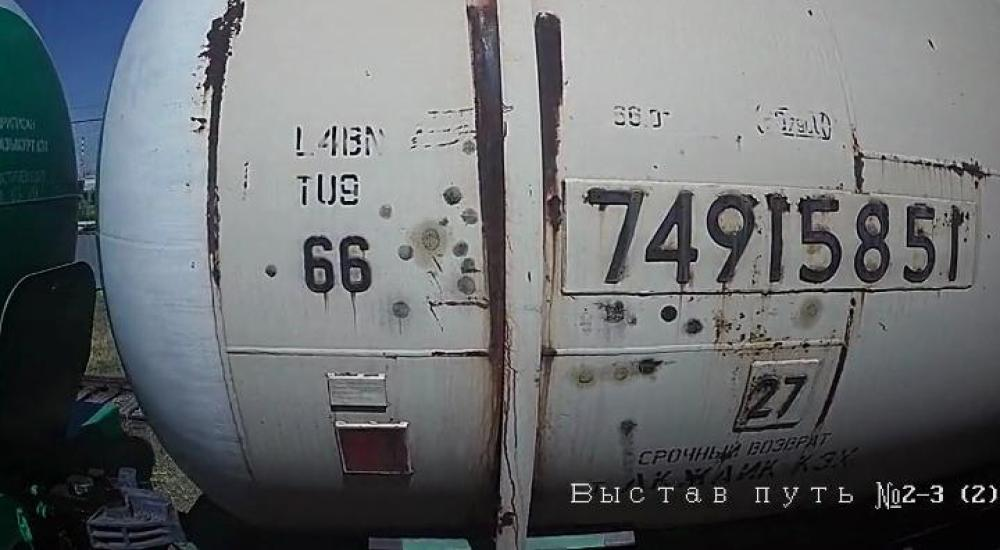Wagon-number: (577, 183, 966, 292)
